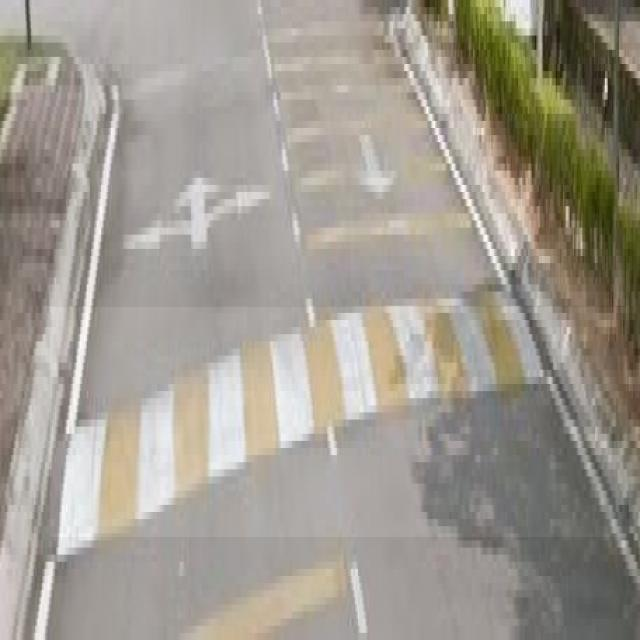speed-bump: (50, 307, 627, 537)
